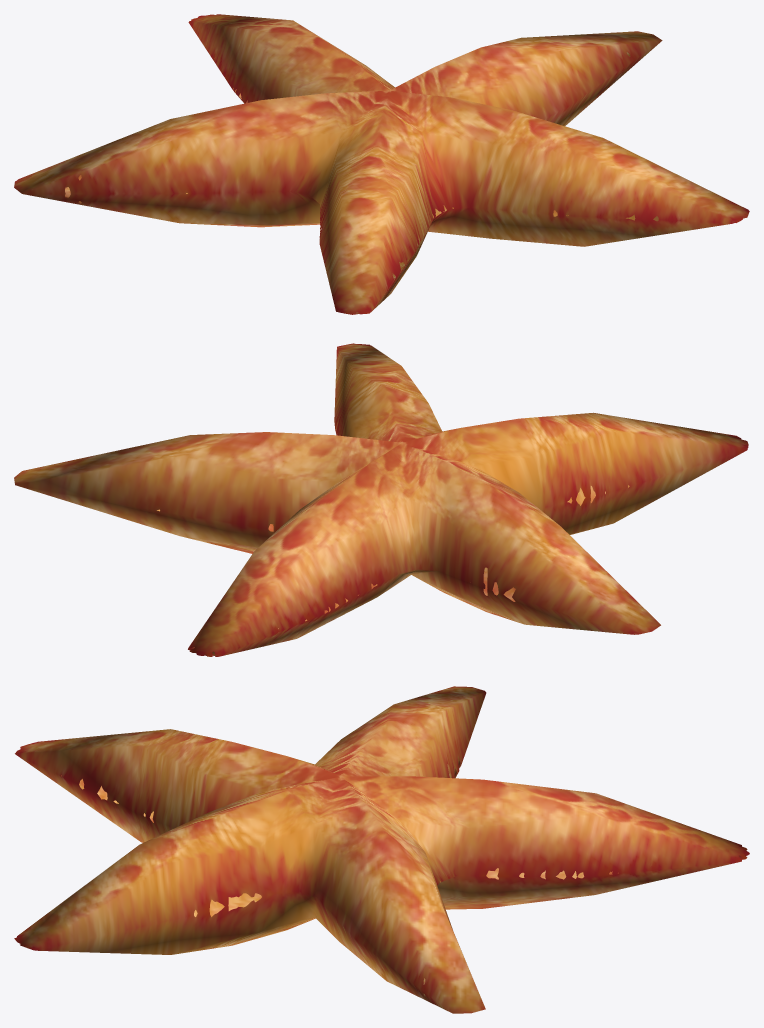
Rendered from starfish_1.fbx.
3 renders of one model, top to bottom at view 1: azimuth 30°, elevation 25°; view 2: azimuth 150°, elevation 25°; view 3: azimuth 270°, elevation 25°, orthographic. The views are drawn at different scales.
Parts seen in each view (by area): view 1: starfish_1; view 2: starfish_1; view 3: starfish_1.
Boxes of the visible parts, left/top/right/bottom form: starfish_1: left=14, top=14, right=749, bottom=314; starfish_1: left=14, top=343, right=748, bottom=656; starfish_1: left=14, top=686, right=749, bottom=1013.
Bounding box in the file's own units: 18.94 × 3.8 × 18.14.
